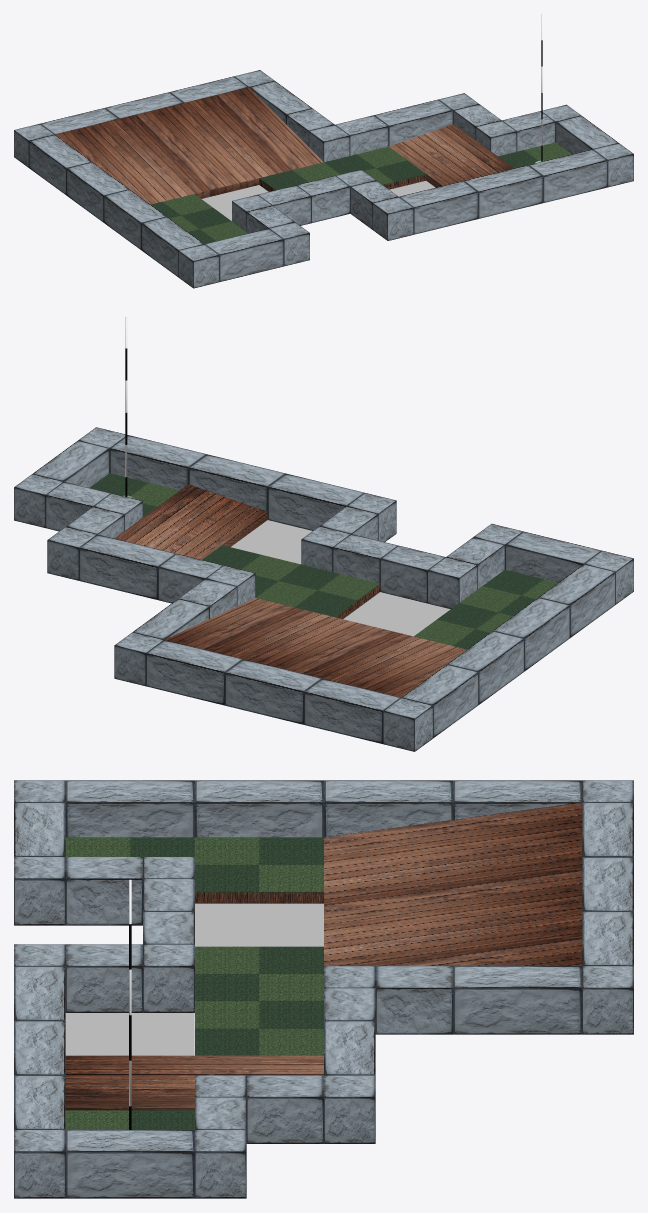
3 renders of one model, top to bottom at view 1: azimuth 30°, elevation 25°; view 2: azimuth 150°, elevation 25°; view 3: azimuth 270°, elevation 25°, orthographic. The views are drawn at different scales.
Parts seen in each view (by area): view 1: platform, barrier2, square, barrier1, barrier3, grassland, pool; view 2: barrier2, platform, square, barrier1, grassland, barrier3, pool; view 3: platform, barrier1, barrier2, square, grassland, barrier3, pool, flagstick.
Boxes of the visible parts, x1=… form: platform: x1=55, y1=87, x2=513, y2=204; barrier2: x1=40, y1=76, x2=607, y2=234; square: x1=14, y1=70, x2=633, y2=288; barrier1: x1=204, y1=81, x2=618, y2=281; barrier3: x1=29, y1=134, x2=203, y2=277; grassland: x1=151, y1=142, x2=571, y2=243; pool: x1=202, y1=181, x2=435, y2=220; barrier2: x1=45, y1=435, x2=504, y2=743; platform: x1=114, y1=484, x2=466, y2=697; square: x1=14, y1=427, x2=633, y2=751; barrier1: x1=33, y1=440, x2=601, y2=639; grassland: x1=89, y1=473, x2=557, y2=649; barrier3: x1=402, y1=564, x2=615, y2=738; pool: x1=231, y1=520, x2=450, y2=636; platform: x1=65, y1=802, x2=582, y2=1110; barrier1: x1=14, y1=802, x2=582, y2=1198; barrier2: x1=14, y1=802, x2=633, y2=1129; square: x1=14, y1=780, x2=633, y2=1198; grassland: x1=65, y1=837, x2=323, y2=1129; barrier3: x1=65, y1=780, x2=582, y2=837; pool: x1=65, y1=903, x2=323, y2=1055; flagstick: x1=129, y1=879, x2=131, y2=1129.
Bounding box in the file's own units: 68 × 23 × 48.
